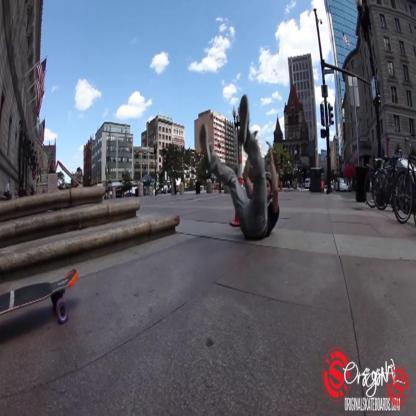Fall_Down: (198, 93, 282, 244)
